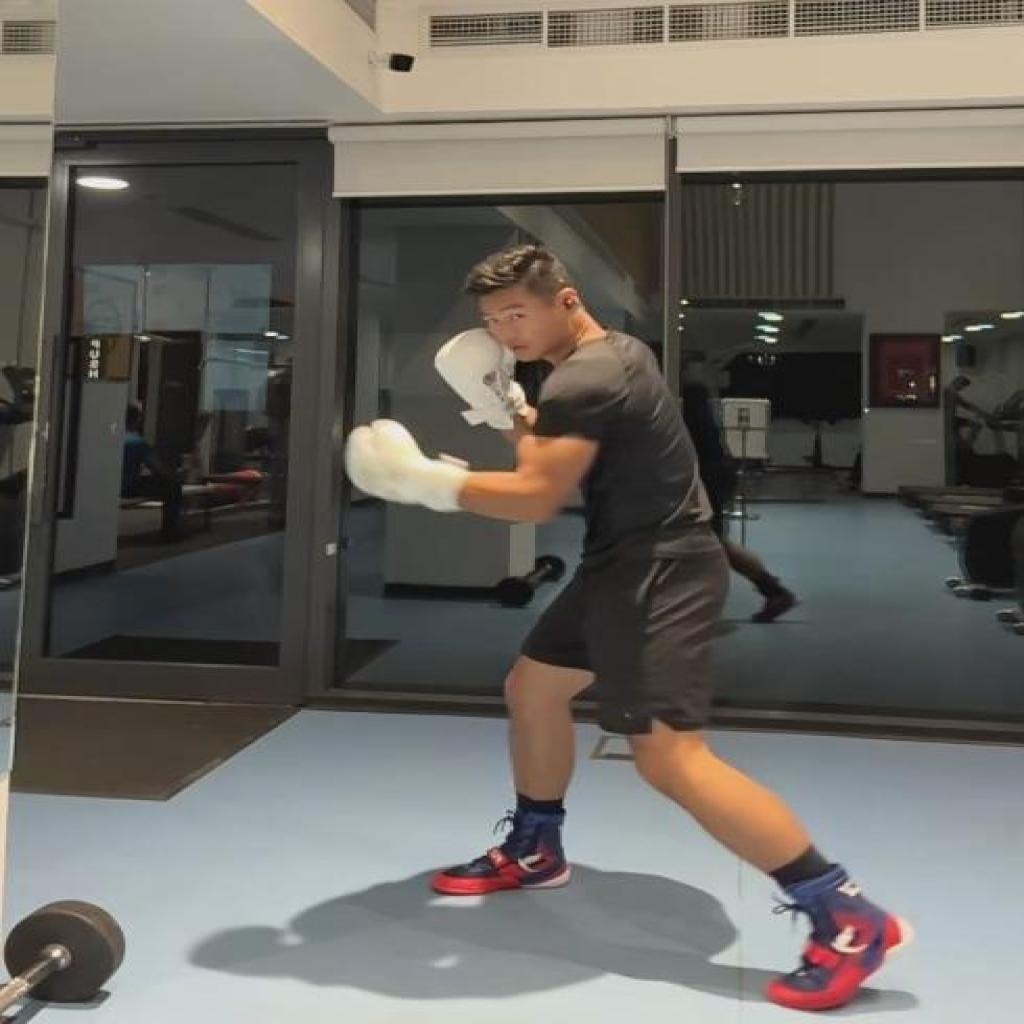uppercut: (338, 245, 918, 1022)
